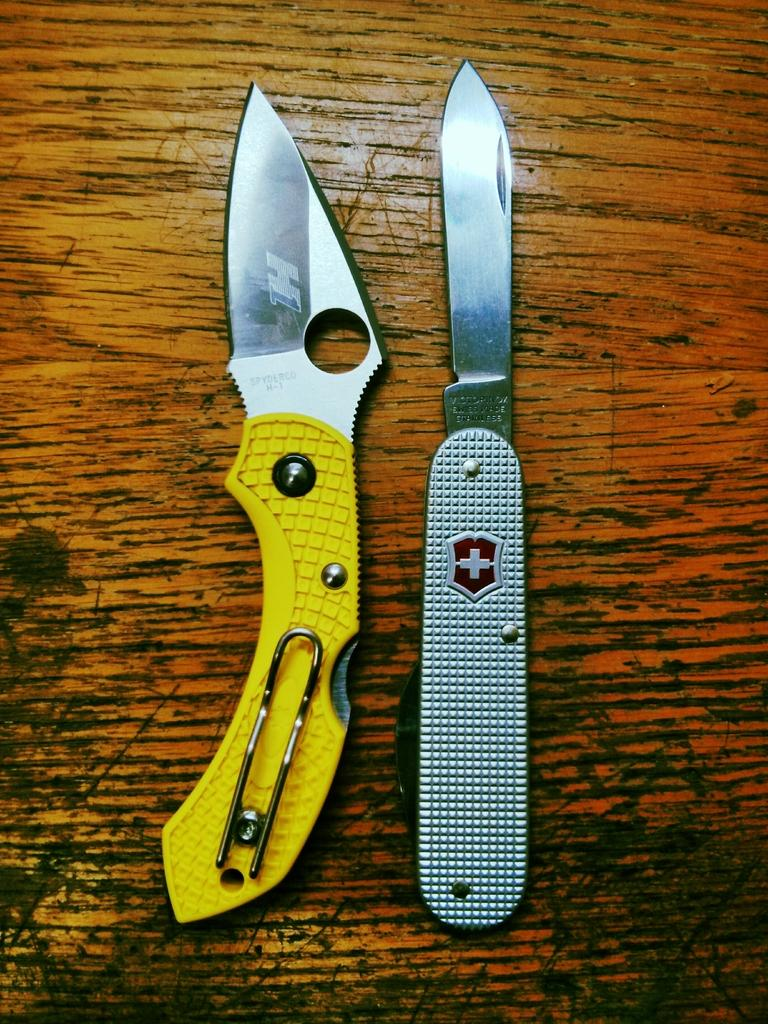Knife: (157, 77, 387, 938), (411, 63, 533, 937)
